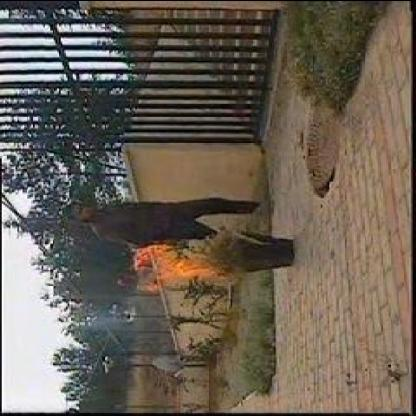foggia-v2-map80-epoch100 - v1 4323: (126, 243, 224, 286)
